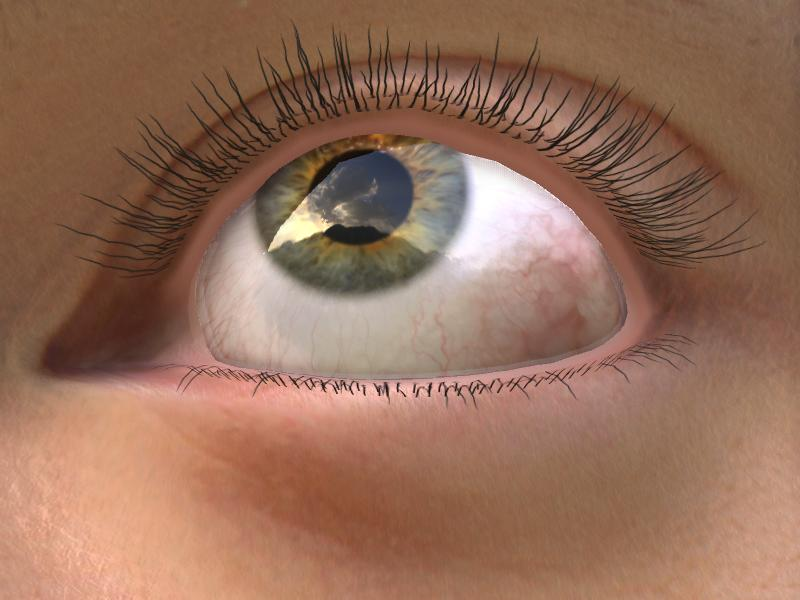eye: (249, 131, 476, 294)
